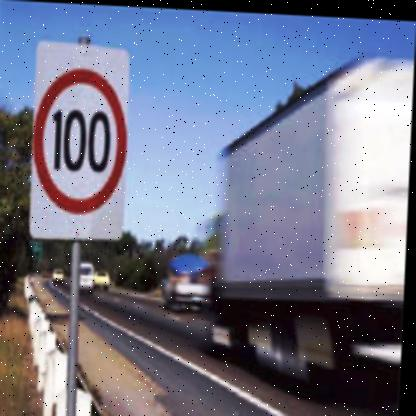Speed Limit -100-: (31, 67, 134, 220)
